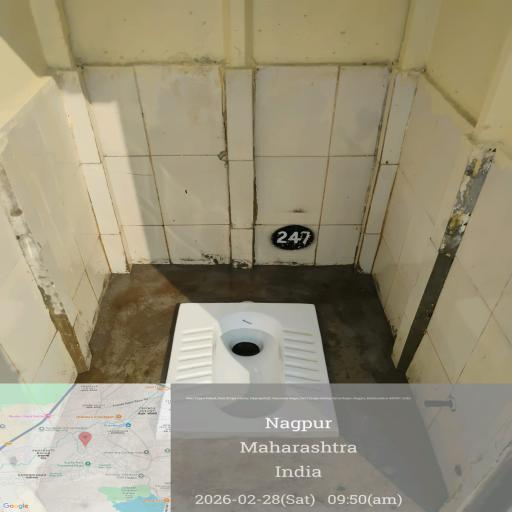clean_floor: (30, 24, 418, 270)
clean_indian: (138, 297, 328, 454)
partial_dirty_floor: (88, 271, 512, 512)
